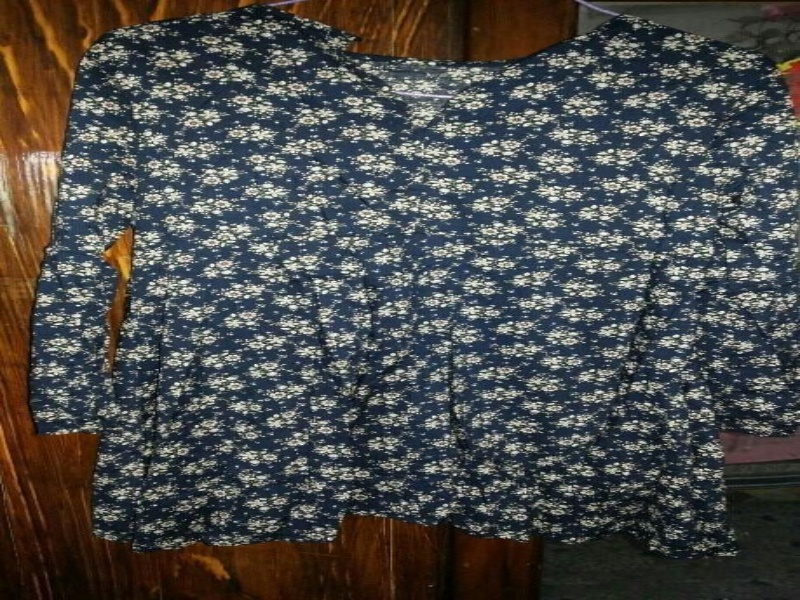long_sleeved_dress: (23, 0, 798, 565)
